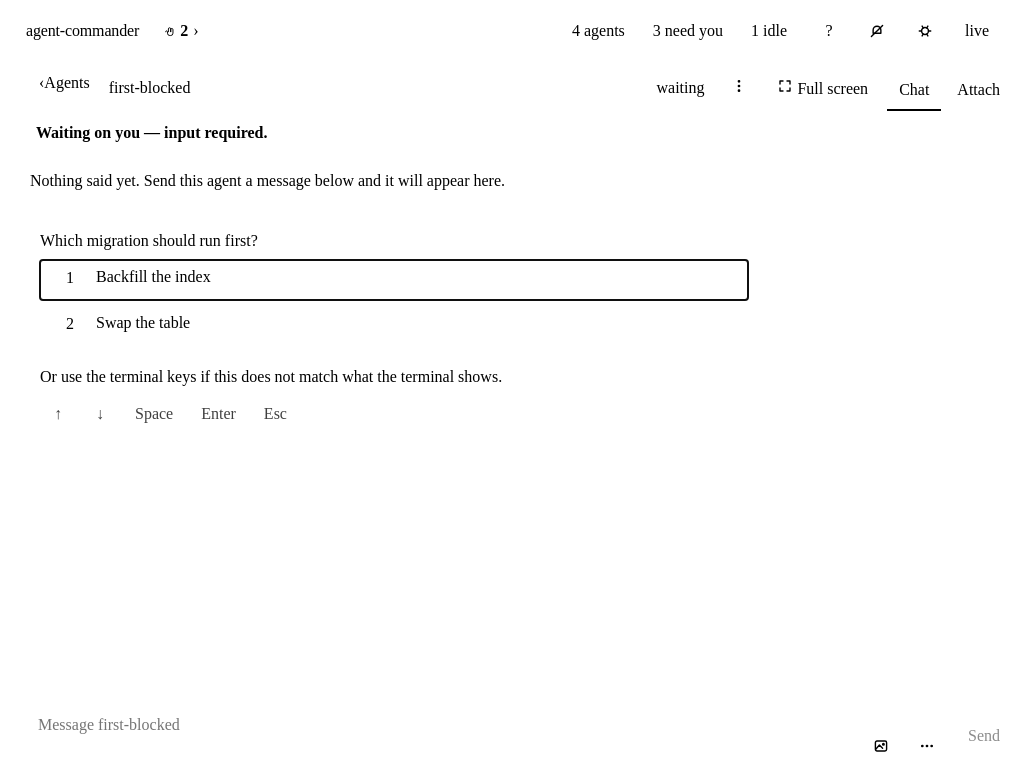
Test case: R5 the chip, the hand-off and ⌥H name one "next" › after an answer on a phone, the chip and the Next button name the same agent
Click the button with test id "answer-option" showing "1 Backfill the index" at (153,276), box [40, 260, 748, 300]
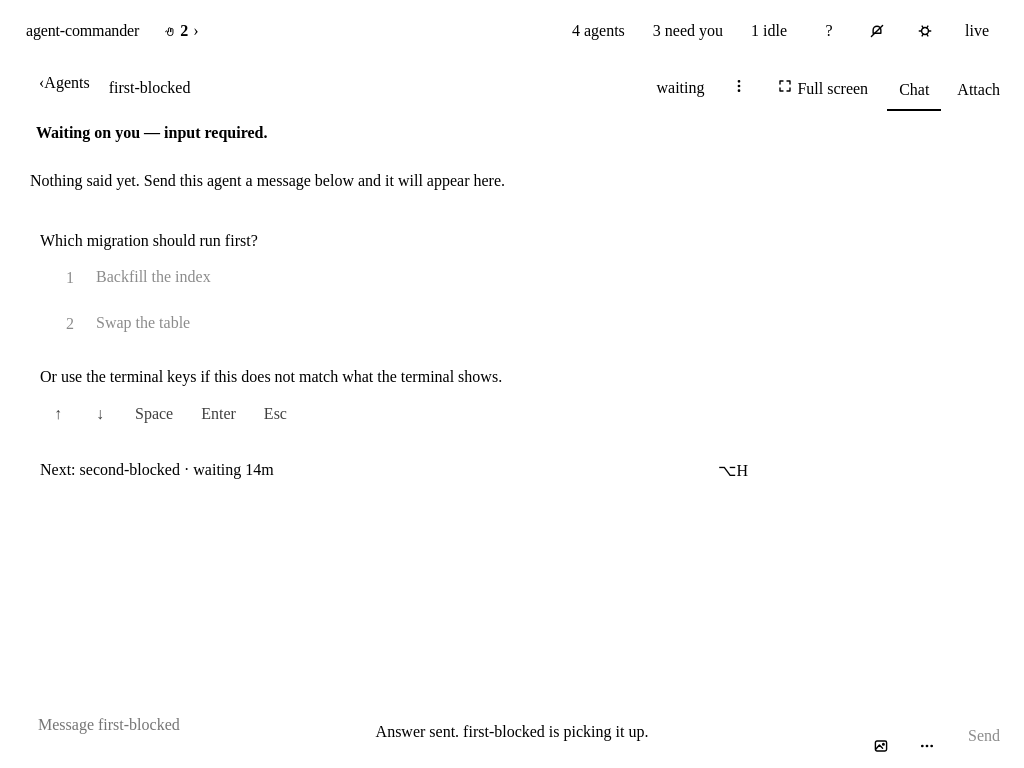
Expected: the button with test id "answer-next" shows "Next: second-blocked", [26, 450, 762, 490]
